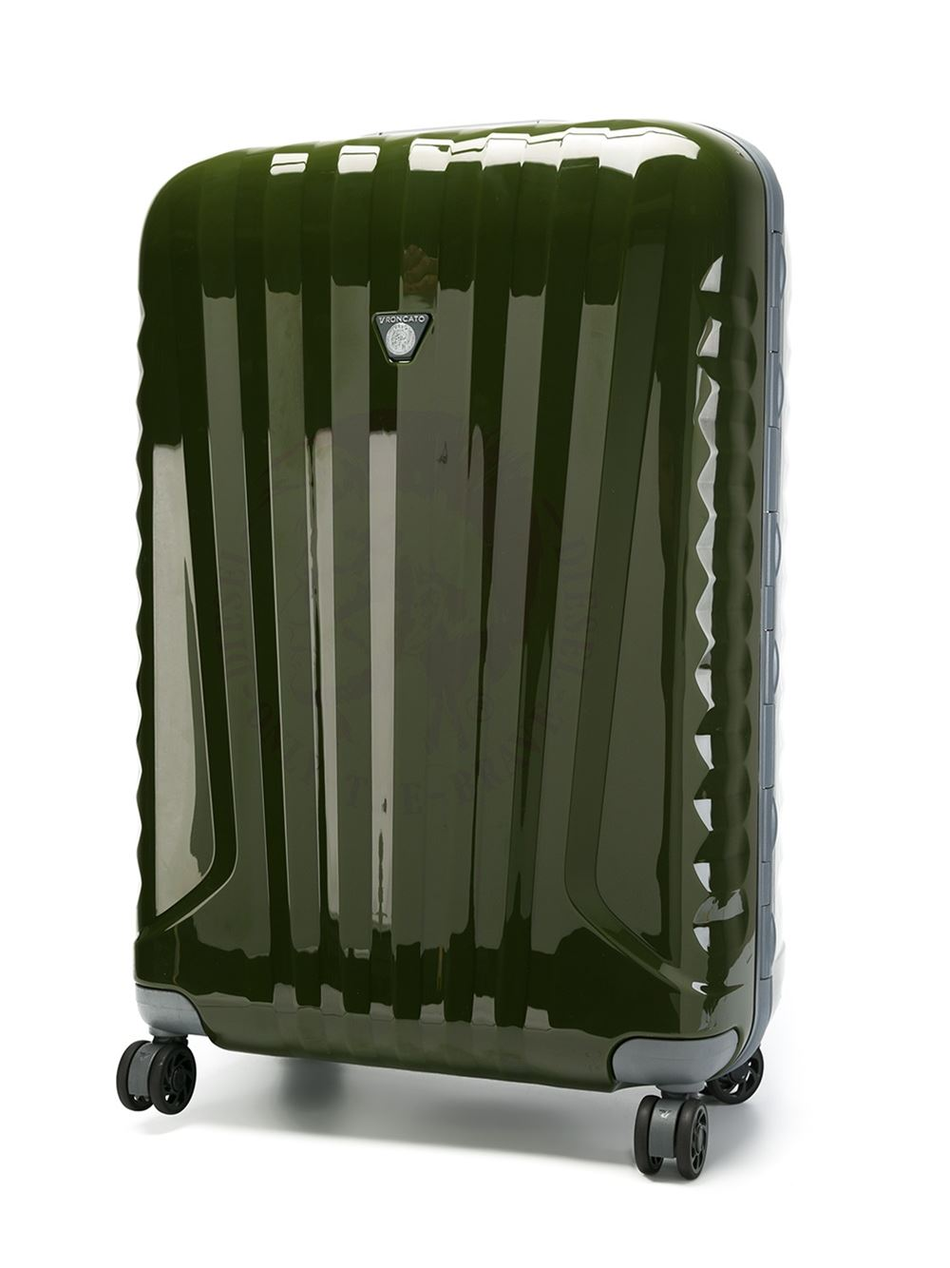box: (134, 119, 785, 1091)
wheel: (634, 1094, 711, 1182), (116, 1041, 197, 1116)
